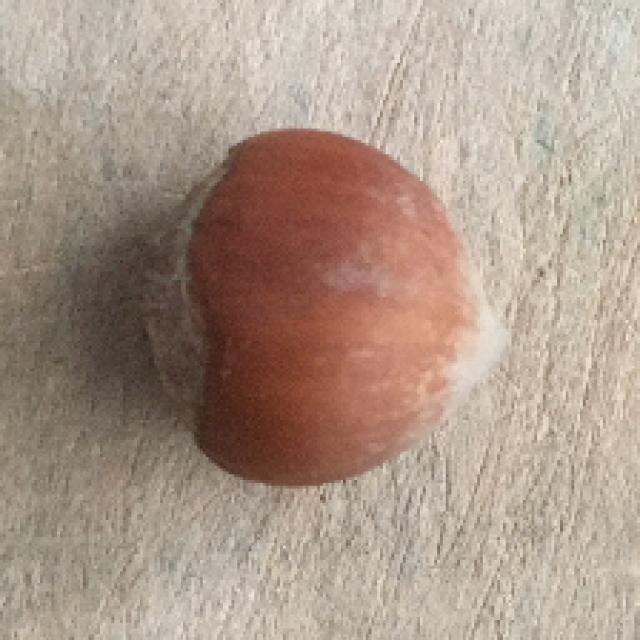QualityHazelnut: (136, 123, 516, 487)
